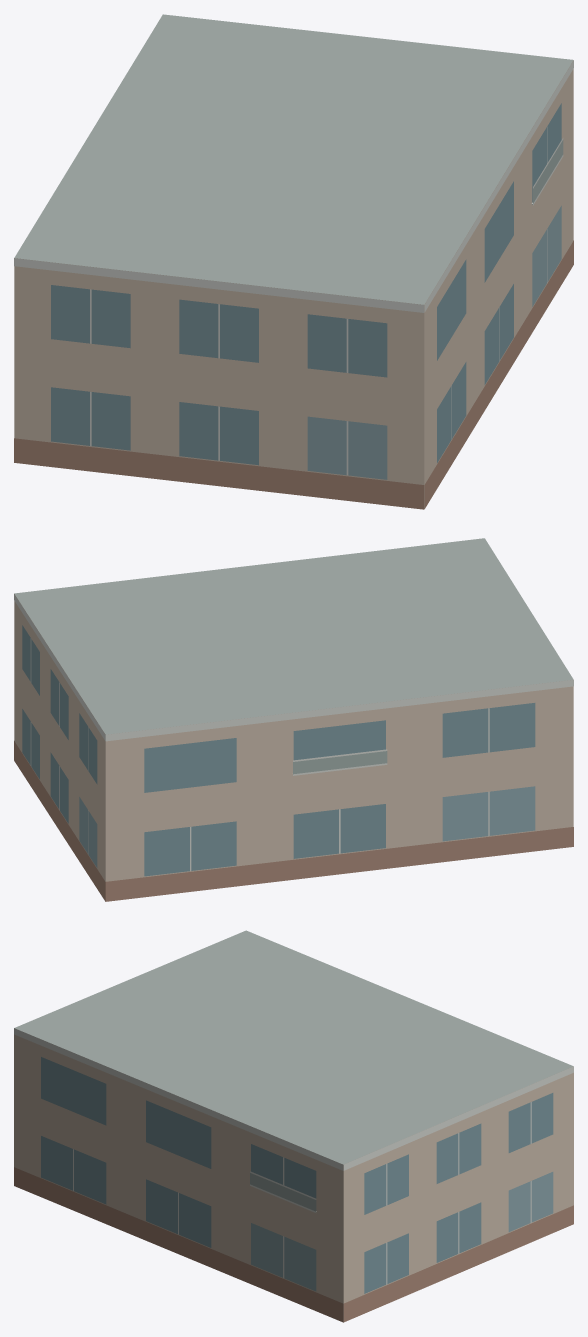
Rendered from survey-upis-32643759.glb.
The picture shows the model from 3 angles, top to bottom: view 1: azimuth 30°, elevation 25°; view 2: azimuth 150°, elevation 25°; view 3: azimuth 270°, elevation 25°; orthographic projection. The views are drawn at different scales.
Parts seen in each view (by area): view 1: survey-upis-32643759.tmp; view 2: survey-upis-32643759.tmp; view 3: survey-upis-32643759.tmp.
Boxes of the visible parts, box(x1,y1,x2,y2) form: survey-upis-32643759.tmp: box(14, 14, 573, 509); survey-upis-32643759.tmp: box(14, 538, 573, 901); survey-upis-32643759.tmp: box(14, 930, 573, 1322).
Size of the model in its own units: 19.43 by 6.1 by 19.61.
